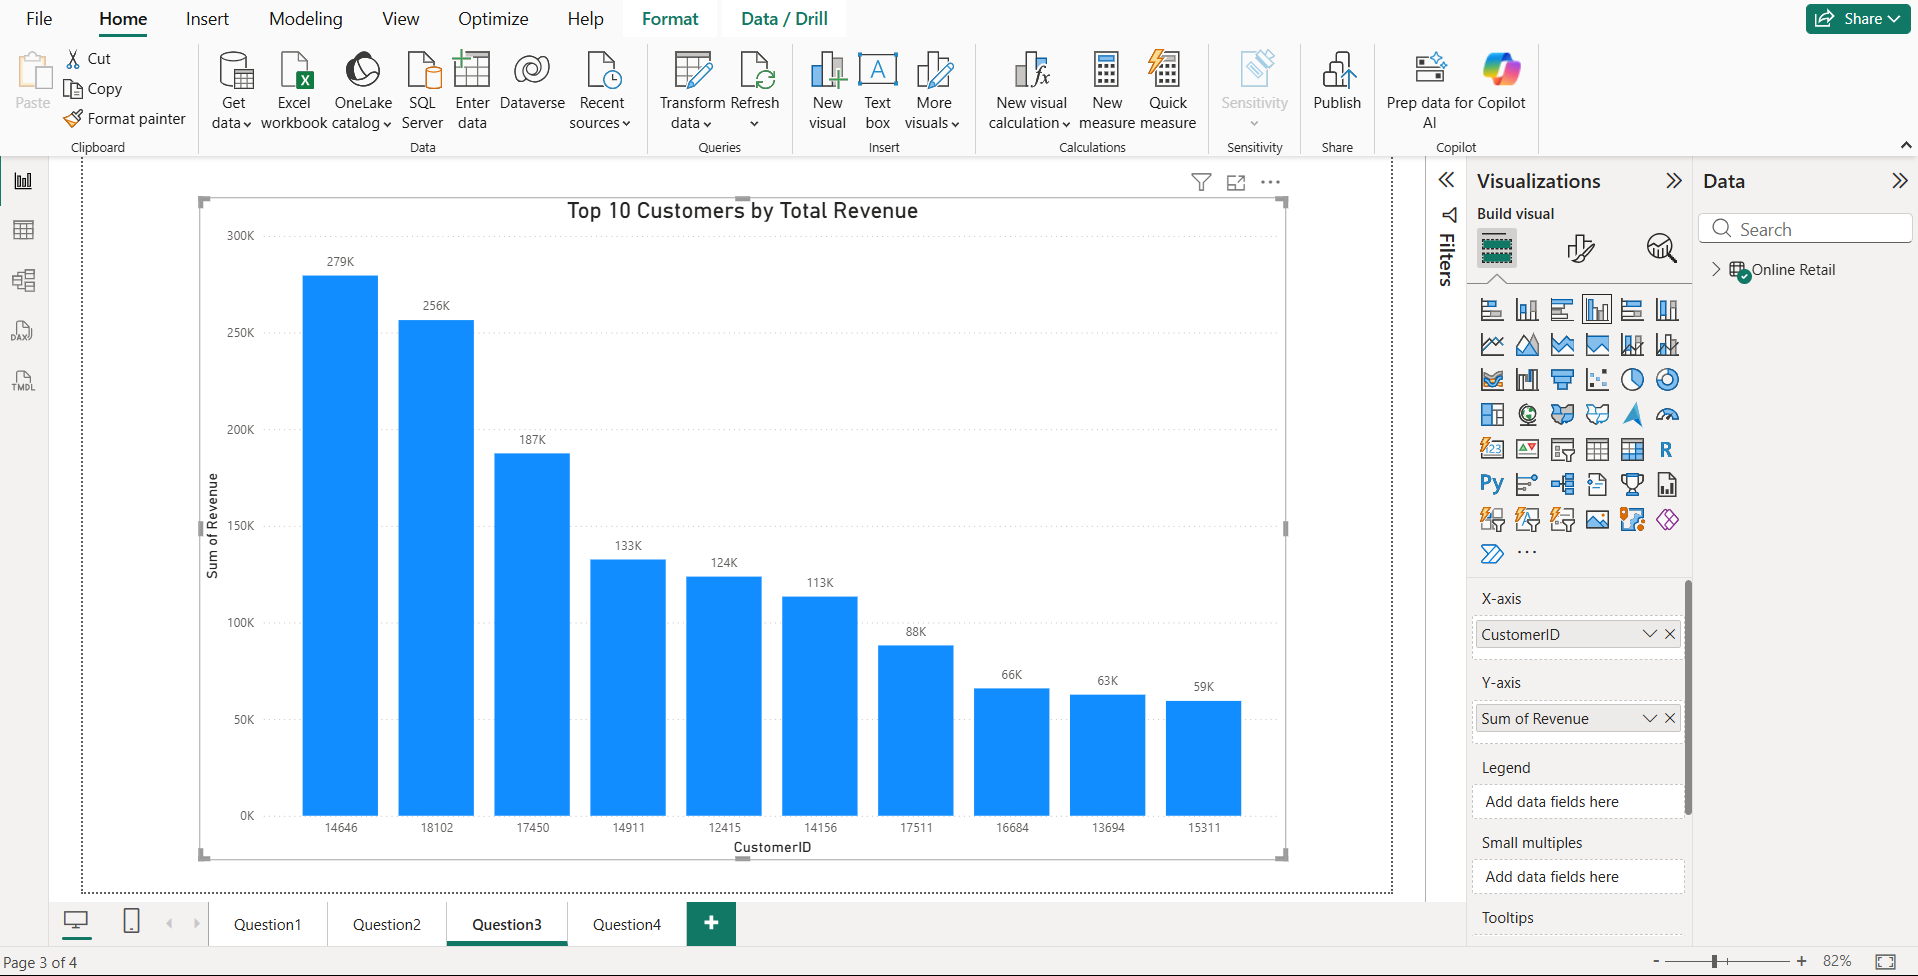

Layout of this report page (visuals, bound fields, positions):
{"tool":"powerbi","page":{"name":"Question3 ","canvas":[1280,720],"ordinal":2},"visuals":[{"type":"clusteredColumnChart","title":"Top 10 Customers by Total Revenue","fields":{"Category":["Online Retail.CustomerID"],"Y":["Sum(Online Retail.Revenue)"]},"box":[113.9,39.8,1063.5,649.1],"z":0}]}

Visuals, with their boxes on the page's 1280x720 design canvas (x1, y1, x2, y2). These are canvas units, not pixel positions in the 1918x976 screenshot, which may show the page scaled, cropped or inside an application window:
"Top 10 Customers by Total Revenue" clusteredColumnChart: x1=114, y1=40, x2=1177, y2=689
